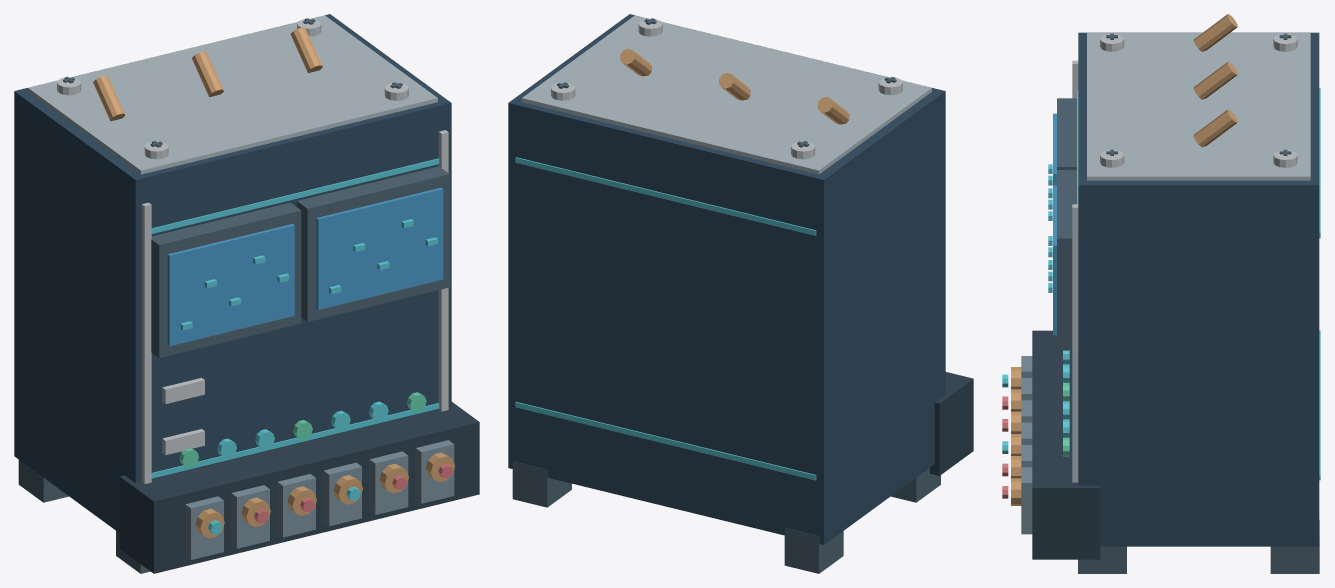
Rendered from 56_L77_DielectricIntegrityAnalyzer.glb.
3 views of the same model, side by side, from view 1: azimuth 30°, elevation 25°; view 2: azimuth 150°, elevation 25°; view 3: azimuth 270°, elevation 25° (orthographic).
Visible parts, largest first — view 1: DielectricIntegrityAnalyzer_Node_0000, DielectricIntegrityAnalyzer_Node_0007, DielectricIntegrityAnalyzer_Node_0049, DielectricIntegrityAnalyzer_Node_0032, DielectricIntegrityAnalyzer_Node_0025, DielectricIntegrityAnalyzer_Node_0024, DielectricIntegrityAnalyzer_Node_0031, DielectricIntegrityAnalyzer_Node_0005, DielectricIntegrityAnalyzer_Node_0023, DielectricIntegrityAnalyzer_Node_0006, DielectricIntegrityAnalyzer_Node_0065, DielectricIntegrityAnalyzer_Node_0062 (+11 smaller); view 2: DielectricIntegrityAnalyzer_Node_0000, DielectricIntegrityAnalyzer_Node_0007, DielectricIntegrityAnalyzer_Node_0049, DielectricIntegrityAnalyzer_Node_0045, DielectricIntegrityAnalyzer_Node_0020, DielectricIntegrityAnalyzer_Node_0022, DielectricIntegrityAnalyzer_Node_0047, DielectricIntegrityAnalyzer_Node_0046; view 3: DielectricIntegrityAnalyzer_Node_0000, DielectricIntegrityAnalyzer_Node_0007, DielectricIntegrityAnalyzer_Node_0049, DielectricIntegrityAnalyzer_Node_0031, DielectricIntegrityAnalyzer_Node_0006, DielectricIntegrityAnalyzer_Node_0024, DielectricIntegrityAnalyzer_Node_0047, DielectricIntegrityAnalyzer_Node_0048, DielectricIntegrityAnalyzer_Node_0065, DielectricIntegrityAnalyzer_Node_0075, DielectricIntegrityAnalyzer_Node_0074, DielectricIntegrityAnalyzer_Node_0073 (+1 smaller).
Boxes of the visible parts, x1,y1,x2,y2 form: DielectricIntegrityAnalyzer_Node_0000: (14, 14, 451, 532); DielectricIntegrityAnalyzer_Node_0007: (28, 15, 437, 174); DielectricIntegrityAnalyzer_Node_0049: (119, 402, 479, 573); DielectricIntegrityAnalyzer_Node_0032: (316, 187, 443, 309); DielectricIntegrityAnalyzer_Node_0025: (167, 224, 294, 346); DielectricIntegrityAnalyzer_Node_0024: (151, 202, 301, 358); DielectricIntegrityAnalyzer_Node_0031: (297, 166, 449, 321); DielectricIntegrityAnalyzer_Node_0005: (141, 202, 151, 483); DielectricIntegrityAnalyzer_Node_0023: (151, 158, 439, 233); DielectricIntegrityAnalyzer_Node_0006: (438, 130, 448, 411); DielectricIntegrityAnalyzer_Node_0065: (415, 440, 454, 503); DielectricIntegrityAnalyzer_Node_0062: (369, 451, 408, 514); DielectricIntegrityAnalyzer_Node_0000: (508, 14, 945, 544); DielectricIntegrityAnalyzer_Node_0007: (522, 15, 931, 174); DielectricIntegrityAnalyzer_Node_0049: (930, 372, 973, 475); DielectricIntegrityAnalyzer_Node_0045: (784, 527, 843, 573); DielectricIntegrityAnalyzer_Node_0020: (515, 401, 816, 480); DielectricIntegrityAnalyzer_Node_0022: (515, 157, 816, 235); DielectricIntegrityAnalyzer_Node_0047: (512, 461, 571, 507); DielectricIntegrityAnalyzer_Node_0046: (891, 468, 940, 502); DielectricIntegrityAnalyzer_Node_0000: (1078, 32, 1319, 546); DielectricIntegrityAnalyzer_Node_0007: (1087, 33, 1310, 180); DielectricIntegrityAnalyzer_Node_0049: (1032, 330, 1100, 559); DielectricIntegrityAnalyzer_Node_0031: (1057, 170, 1076, 350); DielectricIntegrityAnalyzer_Node_0006: (1072, 204, 1078, 482); DielectricIntegrityAnalyzer_Node_0024: (1057, 98, 1076, 169); DielectricIntegrityAnalyzer_Node_0047: (1270, 520, 1319, 573); DielectricIntegrityAnalyzer_Node_0048: (1078, 546, 1126, 573); DielectricIntegrityAnalyzer_Node_0065: (1021, 467, 1032, 534); DielectricIntegrityAnalyzer_Node_0075: (1193, 109, 1237, 147); DielectricIntegrityAnalyzer_Node_0074: (1193, 62, 1237, 99); DielectricIntegrityAnalyzer_Node_0073: (1193, 14, 1237, 51).
Bounding box in the file's own units: 0.99 × 1.26 × 0.8456.
